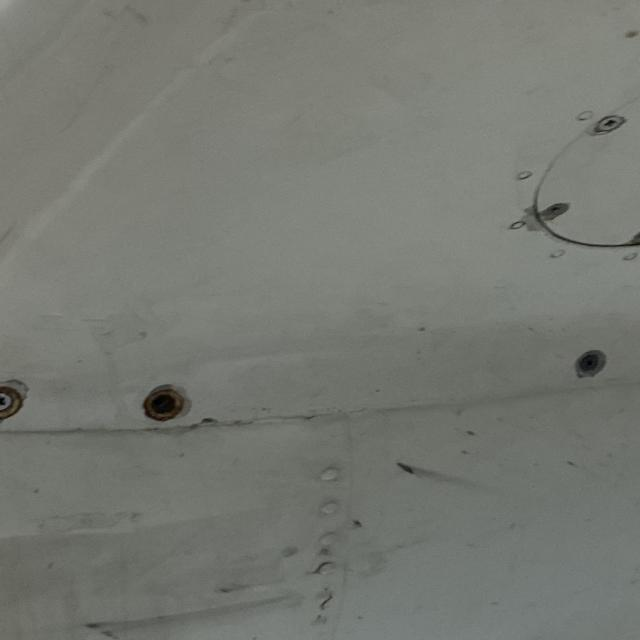Missing-head: (140, 386, 187, 422)
